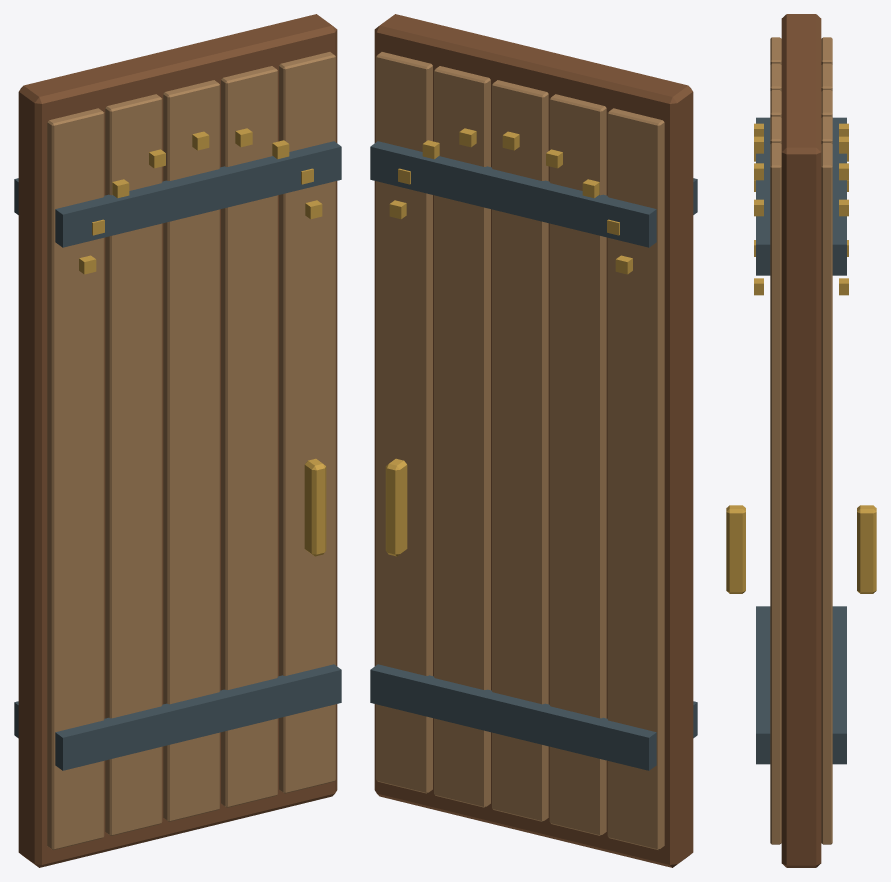
Rendered from door_arched_plank.glb.
3 renders of one model, left to right at view 1: azimuth 30°, elevation 25°; view 2: azimuth 150°, elevation 25°; view 3: azimuth 270°, elevation 25°, orthographic. The views are drawn at different scales.
Visible parts, largest first — view 1: door_arched_plank; view 2: door_arched_plank; view 3: door_arched_plank.
Part boxes in pixels (x1,y1,x2,y2): door_arched_plank: (14,14,341,867); door_arched_plank: (370,14,697,867); door_arched_plank: (726,14,876,867).
Size of the model in its own units: 1.15 by 2.8 by 0.53.
